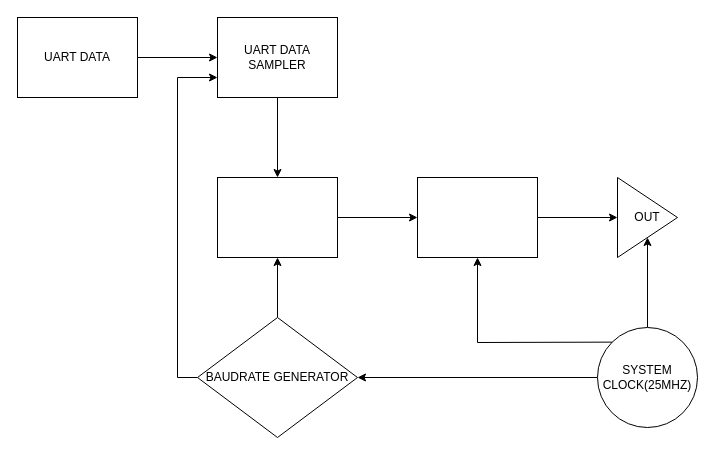
This 715x455 diagram has some shape labels left out. The shapes that lost their labels are listed below. From the top down, each one's centre as x and y in pixels, then its label:
At point 277,217: "SIPO".
At point 477,217: "Detector".
